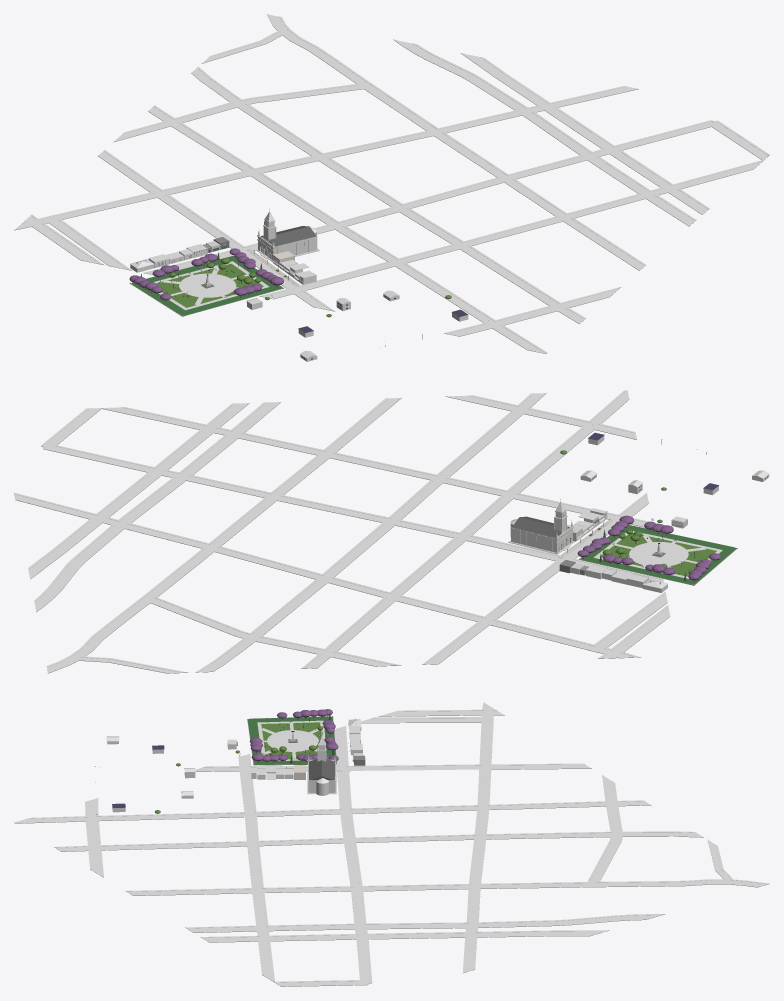
3 views of the same model, one above another, from view 1: azimuth 30°, elevation 25°; view 2: azimuth 150°, elevation 25°; view 3: azimuth 270°, elevation 25° (orthographic). The views are drawn at different scales.
Visible parts, largest first — view 1: col_road, col_sidewalk, col_curb, sidewalk, col_building, detail.009, vegetation.002, detail.012, detail.014; view 2: col_road, col_sidewalk, col_curb, col_building, sidewalk, detail.009, vegetation.002, detail.012, detail.014, building.015; view 3: col_road, col_sidewalk, col_curb, sidewalk, col_building, detail.009, vegetation.002, detail.012, detail.014, building.015.
Boxes of the visible parts, box(x1,y1,x2,y2) form: col_road: box(16, 15, 767, 353); col_sidewalk: box(14, 14, 769, 353); col_curb: box(22, 16, 768, 353); sidewalk: box(14, 21, 769, 353); col_building: box(130, 209, 468, 361); detail.009: box(153, 261, 273, 310); vegetation.002: box(129, 248, 283, 300); detail.012: box(131, 256, 281, 315); detail.014: box(157, 263, 263, 307); col_road: box(14, 390, 669, 673); col_sidewalk: box(14, 390, 670, 673); col_curb: box(14, 390, 669, 672); col_building: box(508, 435, 769, 592); sidewalk: box(15, 393, 669, 673); detail.009: box(594, 518, 722, 578); vegetation.002: box(577, 515, 720, 580); detail.012: box(580, 525, 735, 584); detail.014: box(599, 533, 716, 576); building.015: box(512, 516, 569, 538); col_road: box(15, 704, 766, 985); col_sidewalk: box(15, 702, 768, 986); col_curb: box(14, 703, 766, 985); sidewalk: box(15, 715, 769, 986); col_building: box(106, 718, 362, 812); detail.009: box(238, 720, 326, 760); vegetation.002: box(249, 709, 338, 761); detail.012: box(247, 716, 336, 765); detail.014: box(261, 722, 321, 759); building.015: box(309, 759, 334, 780).
Size of the model in its own units: 629 by 43.57 by 706.
